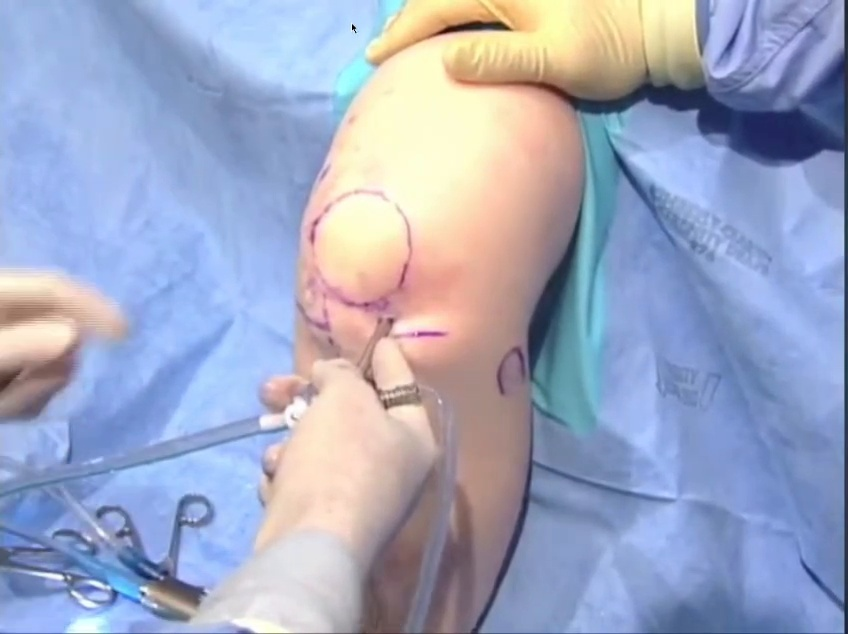arthroscope: (424, 12, 746, 634), (101, 147, 402, 503)
probe: (733, 141, 848, 634), (585, 0, 848, 118), (23, 249, 142, 425)
